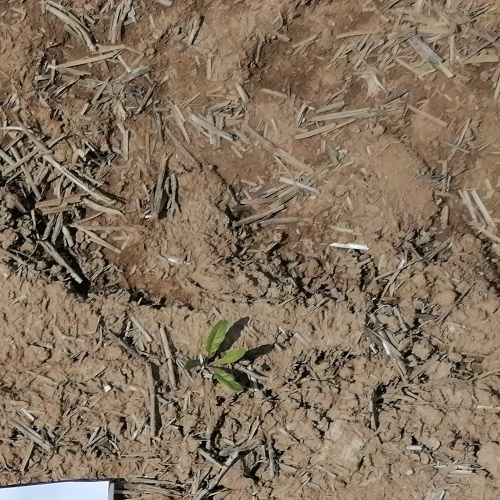beet: (182, 318, 243, 392)
